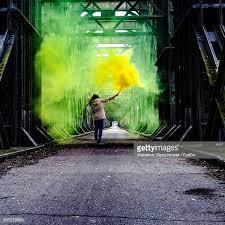smoke: (36, 8, 164, 146)
